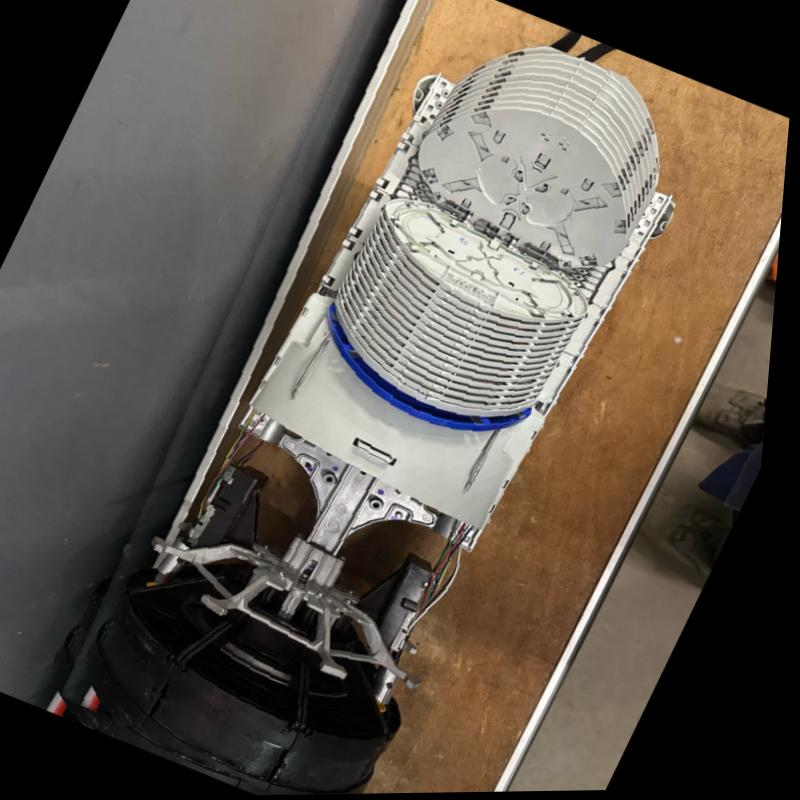NT-Muffen: (76, 52, 683, 796)
